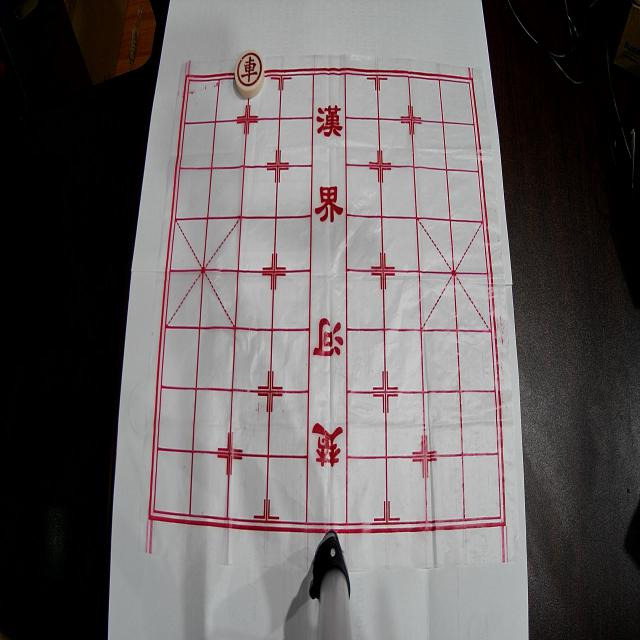red-chariot: (235, 50, 264, 98)
